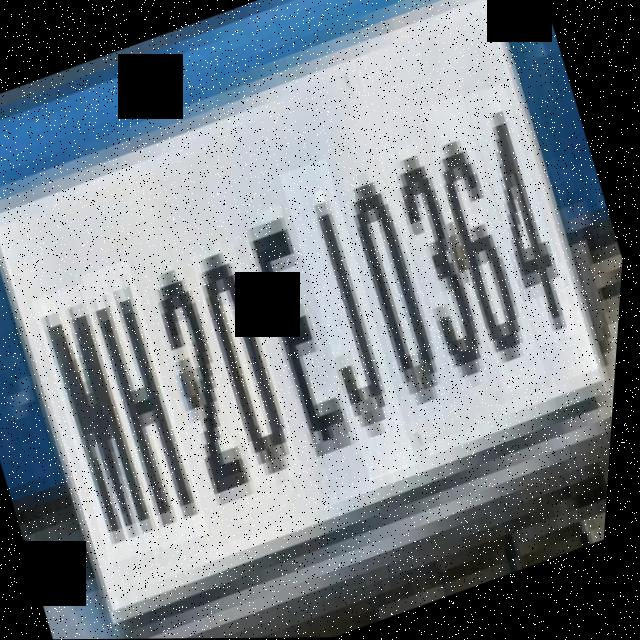0: (327, 163, 483, 438), (182, 242, 321, 489)
3: (375, 135, 524, 406)
4: (454, 83, 596, 348)
6: (409, 94, 569, 396)
E: (231, 211, 389, 502)
H: (71, 259, 231, 550)
J: (266, 158, 439, 481)
M: (22, 282, 184, 565)
